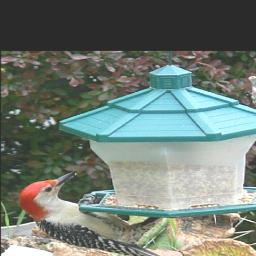Woodpecker: (18, 171, 176, 256)
